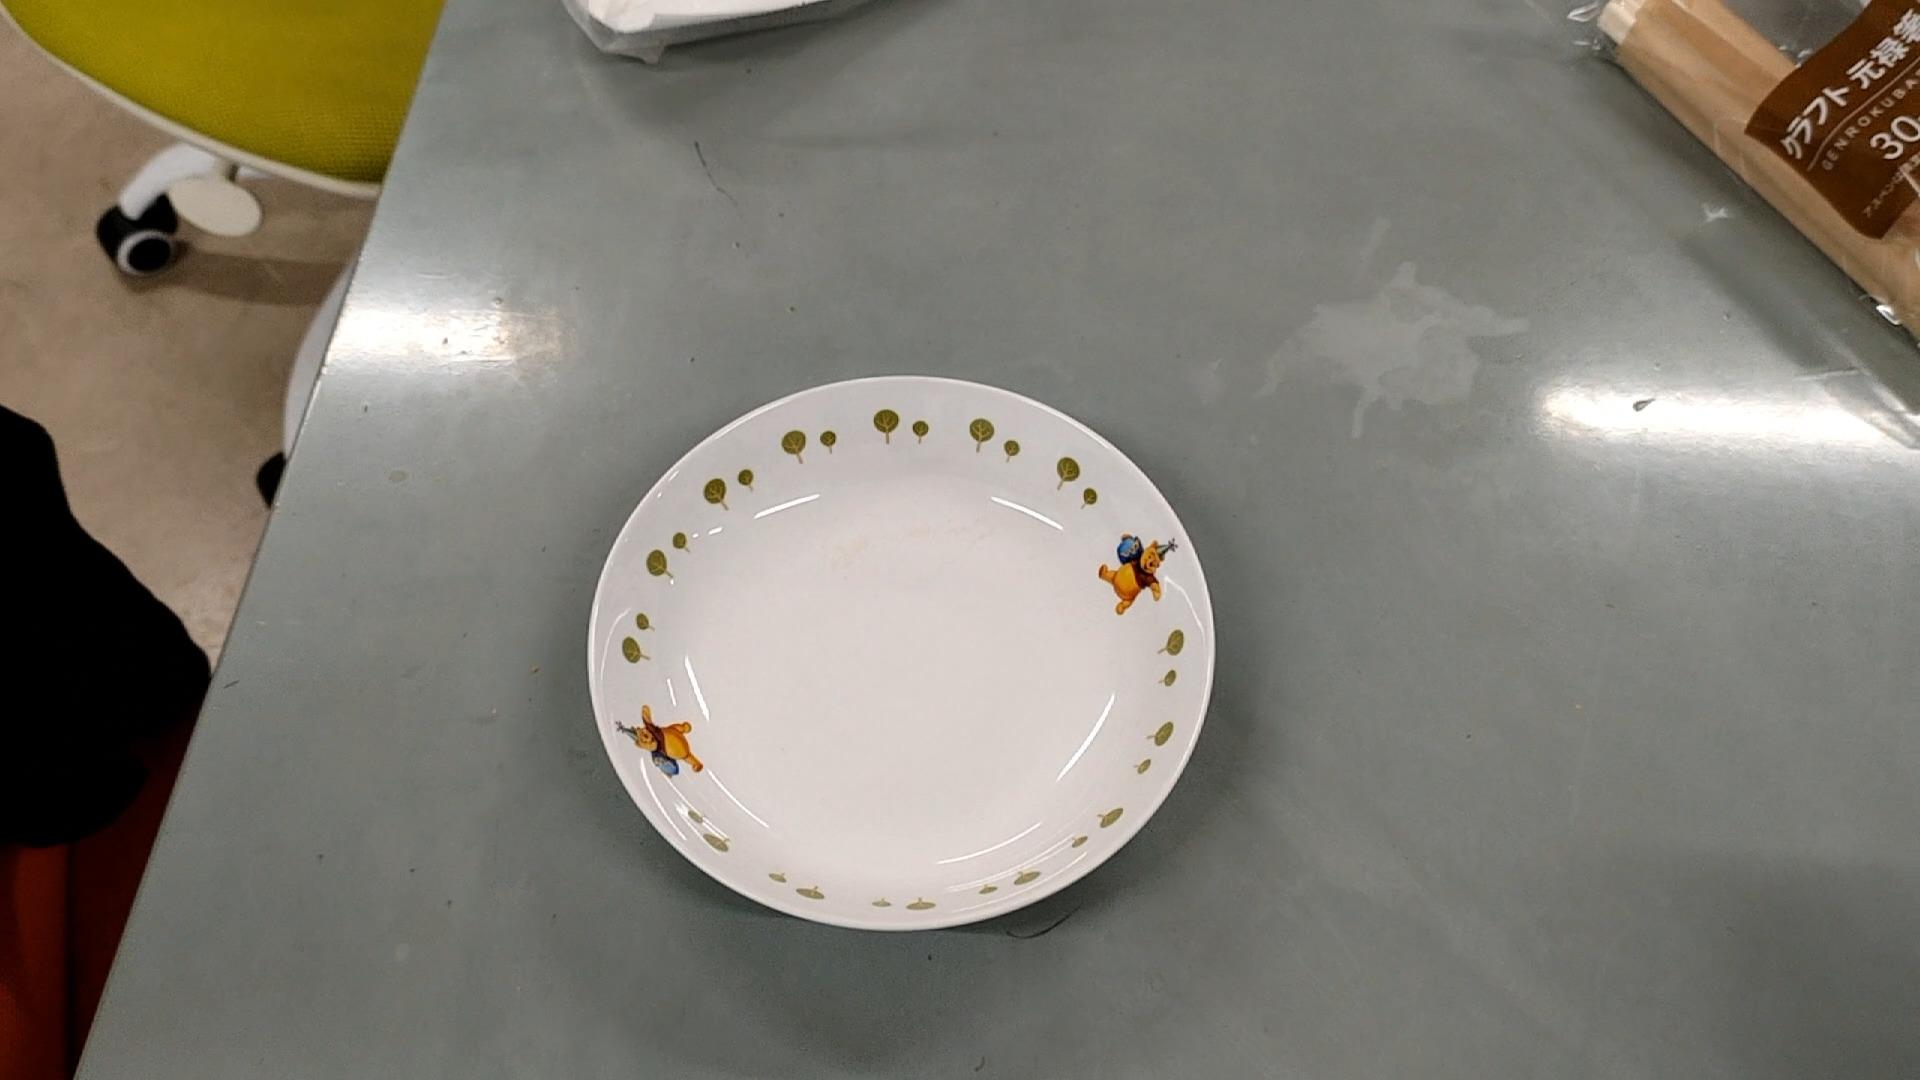plate: (593, 376, 1216, 934)
